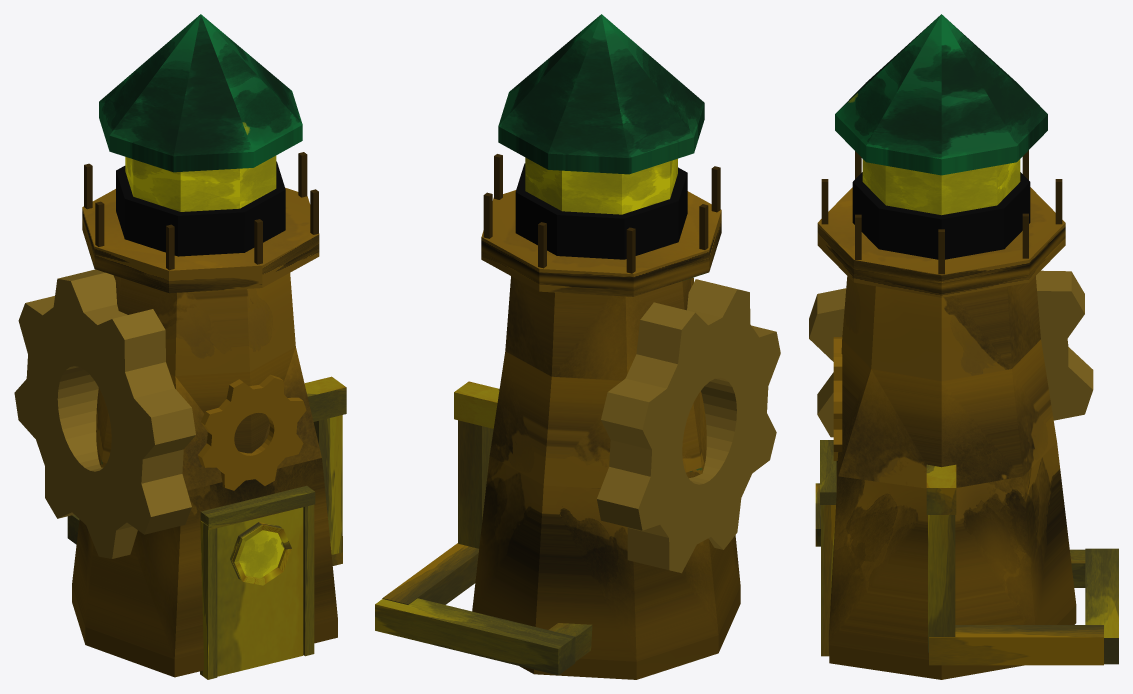
Rendered from LightTower.obj.
The picture shows the model from 3 angles, left to right: view 1: azimuth 30°, elevation 25°; view 2: azimuth 150°, elevation 25°; view 3: azimuth 270°, elevation 25°; orthographic projection.
Parts seen in each view (by area): view 1: 円柱.003; view 2: 円柱.003; view 3: 円柱.003.
Boxes of the visible parts, x1,y1,x2,y2 form: 円柱.003: (14,14,346,679); 円柱.003: (375,14,780,679); 円柱.003: (809,14,1118,679).
Size of the model in its own units: 4.77 by 10.95 by 4.99.
4 materials, 4 textured.
